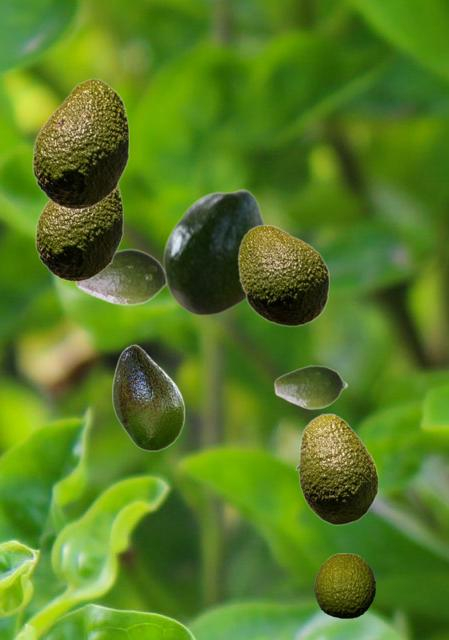avocado: (162, 188, 266, 315), (32, 78, 128, 209), (237, 224, 329, 326), (295, 413, 378, 524), (35, 184, 122, 281), (112, 344, 184, 450), (75, 248, 165, 305), (314, 553, 374, 617), (273, 364, 347, 409)
